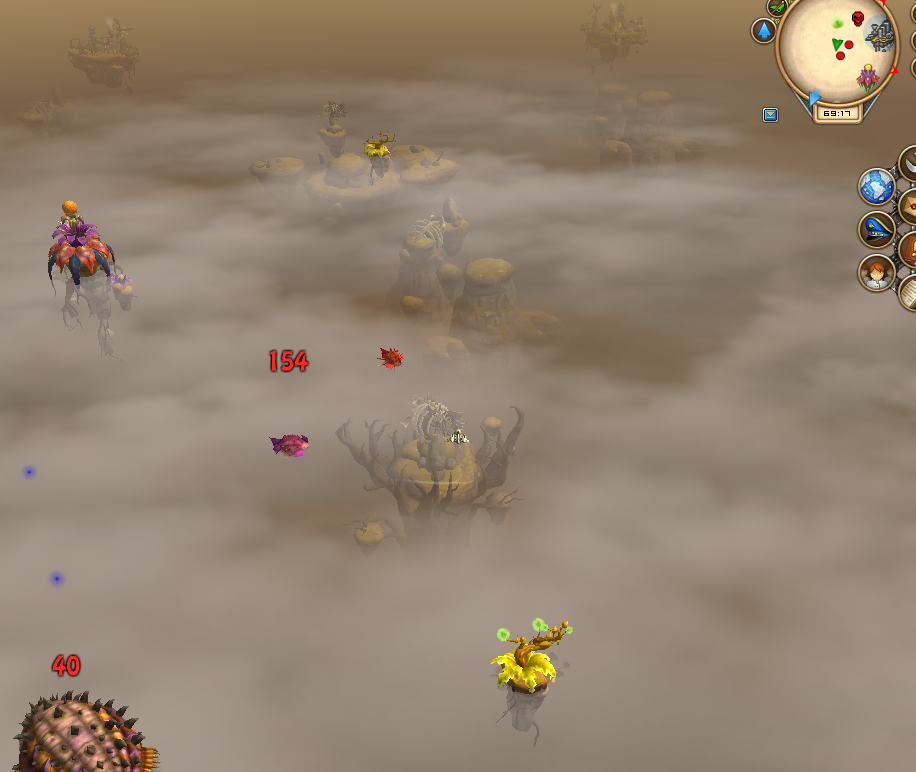dandelion-empty: (361, 127, 401, 182)
dandelion-full: (485, 607, 577, 751)
